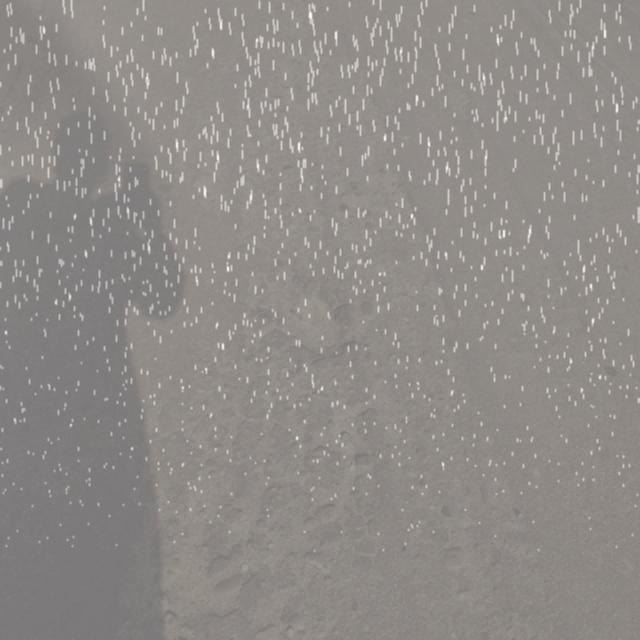Pothole: (179, 297, 422, 630)
